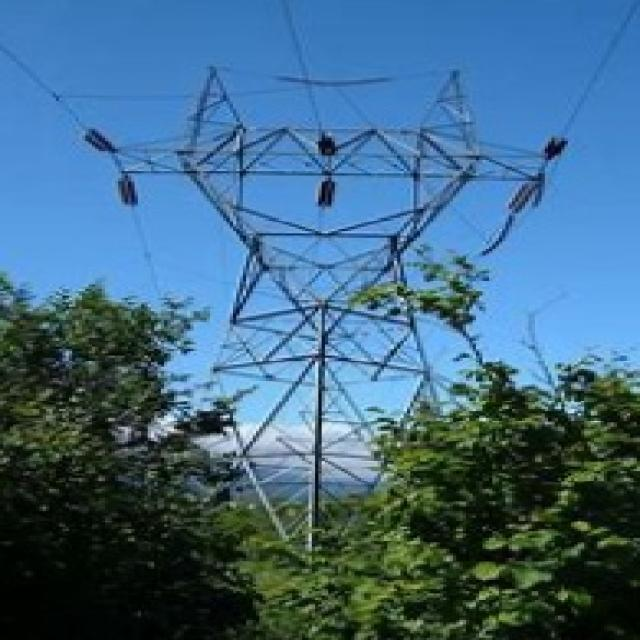utility poles: (319, 238, 561, 590), (101, 235, 292, 590)
